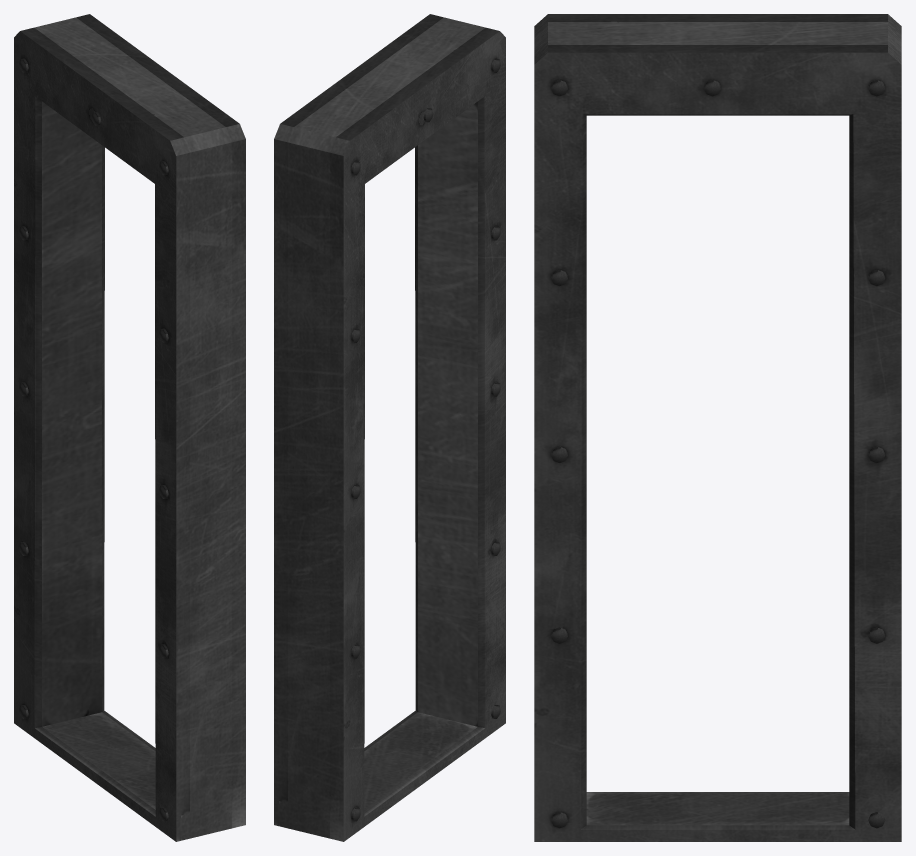
Rendered from door_frame.FBX.
3 views of the same model, side by side, from view 1: azimuth 30°, elevation 25°; view 2: azimuth 150°, elevation 25°; view 3: azimuth 270°, elevation 25° (orthographic). The views are drawn at different scales.
Visible parts, largest first — view 1: Door_frame; view 2: Door_frame; view 3: Door_frame.
Boxes of the visible parts, bbox=[...] form: Door_frame: bbox=[14, 14, 245, 841]; Door_frame: bbox=[274, 14, 505, 841]; Door_frame: bbox=[534, 14, 901, 841].
Bounding box in the file's own units: 15.39 × 132 × 55.73.
